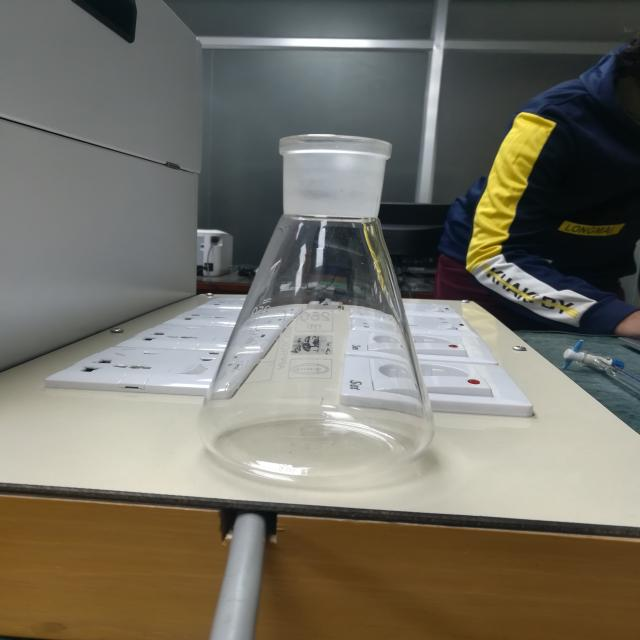Conical_Flask: (170, 57, 471, 502)
